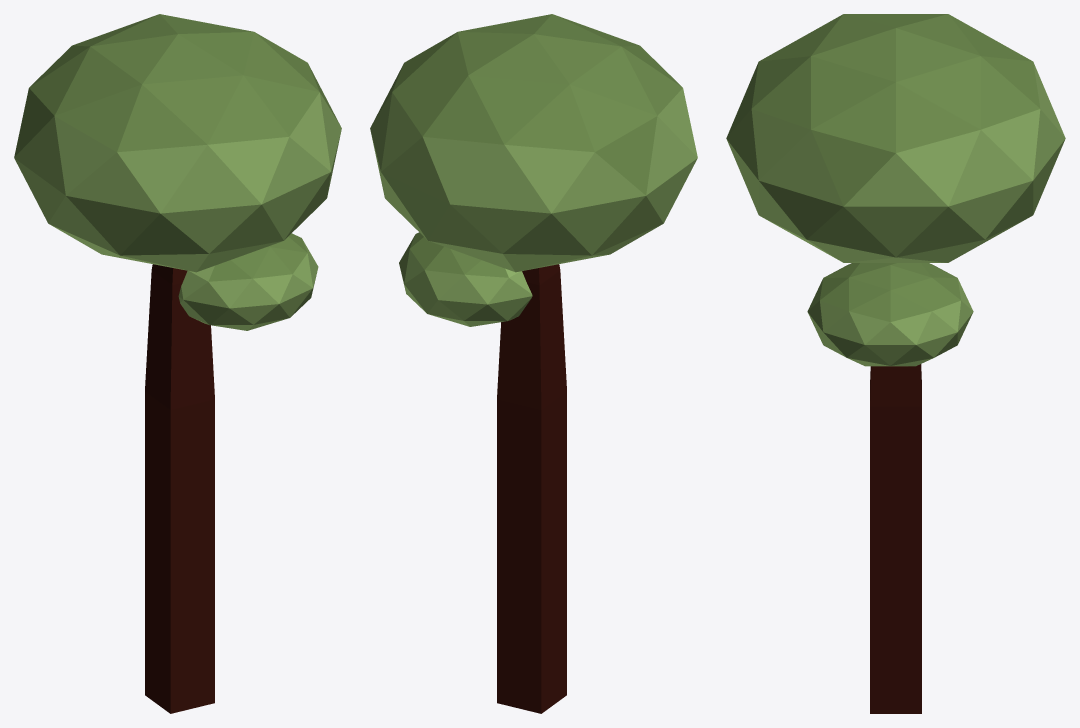
Rendered from tree_2.glb.
3 views of the same model, side by side, from view 1: azimuth 30°, elevation 25°; view 2: azimuth 150°, elevation 25°; view 3: azimuth 270°, elevation 25° (orthographic).
Parts seen in each view (by area): view 1: Cube.001; view 2: Cube.001; view 3: Cube.001.
Boxes of the visible parts, bbox=[...] form: Cube.001: bbox=[14, 14, 341, 713]; Cube.001: bbox=[370, 14, 697, 713]; Cube.001: bbox=[726, 14, 1065, 713].
Size of the model in its own units: 9.47 by 21.83 by 9.96.
1 material, 1 textured.
